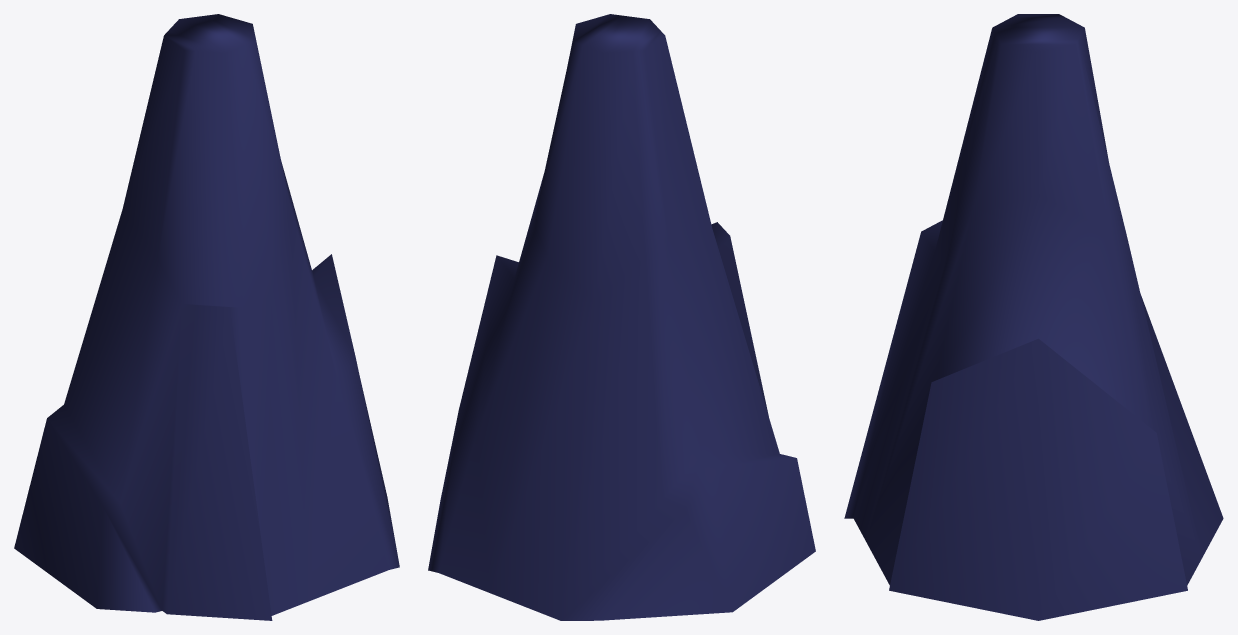
The model's file is VolcanoSoftEdge.fbx.
3 renders of one model, left to right at view 1: azimuth 30°, elevation 25°; view 2: azimuth 150°, elevation 25°; view 3: azimuth 270°, elevation 25°, orthographic.
Visible parts, largest first — view 1: shitvolcano_low; view 2: shitvolcano_low; view 3: shitvolcano_low.
Boxes of the visible parts, x1=… form: shitvolcano_low: x1=14, y1=14, x2=399, y2=620; shitvolcano_low: x1=428, y1=14, x2=815, y2=620; shitvolcano_low: x1=844, y1=14, x2=1223, y2=620.
Bounding box in the file's own units: 7602 × 11089 × 7557.
